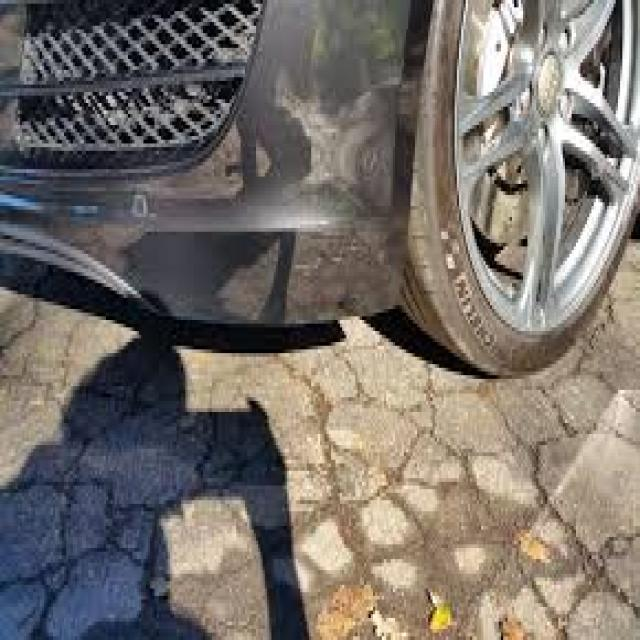minor: (297, 1, 406, 239)
